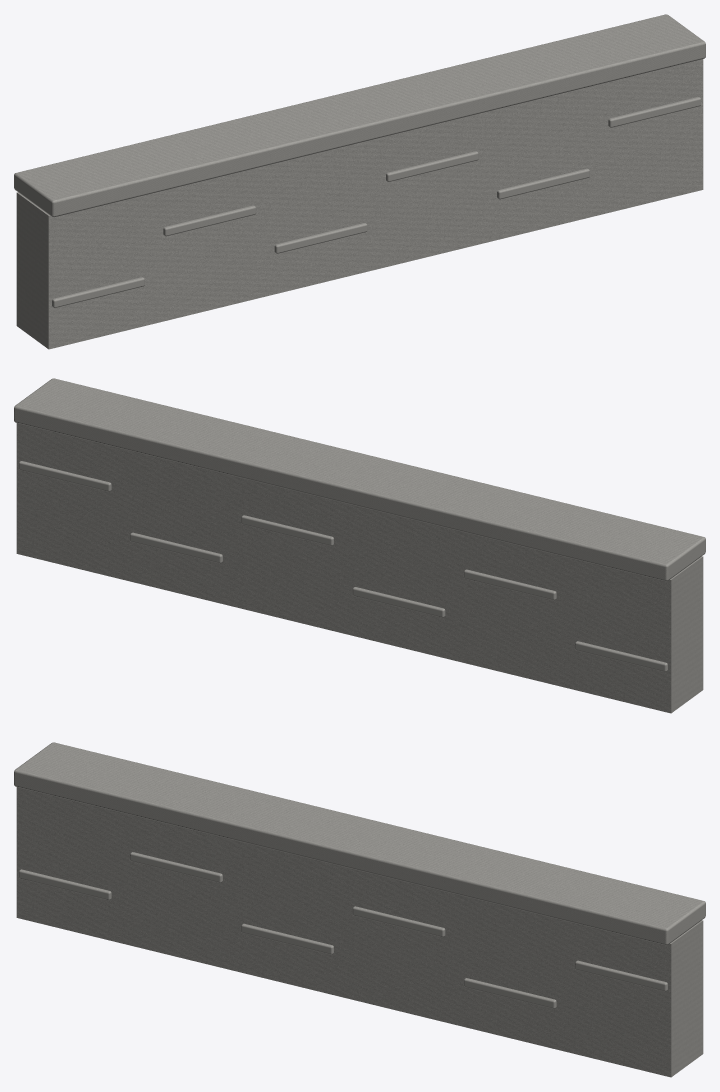
File: tactical-shooter-hill-town-low-garden-wall-af8ce217__27527.glb
3 renders of one model, top to bottom at view 1: azimuth 30°, elevation 25°; view 2: azimuth 150°, elevation 25°; view 3: azimuth 330°, elevation 25°, orthographic.
Parts seen in each view (by area): view 1: low-garden-wall; view 2: low-garden-wall; view 3: low-garden-wall.
Part boxes in pixels (<box>): low-garden-wall: <box>14,14,705,349</box>; low-garden-wall: <box>14,378,705,713</box>; low-garden-wall: <box>14,742,705,1077</box>.
Bounding box in the file's own units: 4 × 0.8799 × 0.4199.
Materials: 1 (1 with a texture image).
